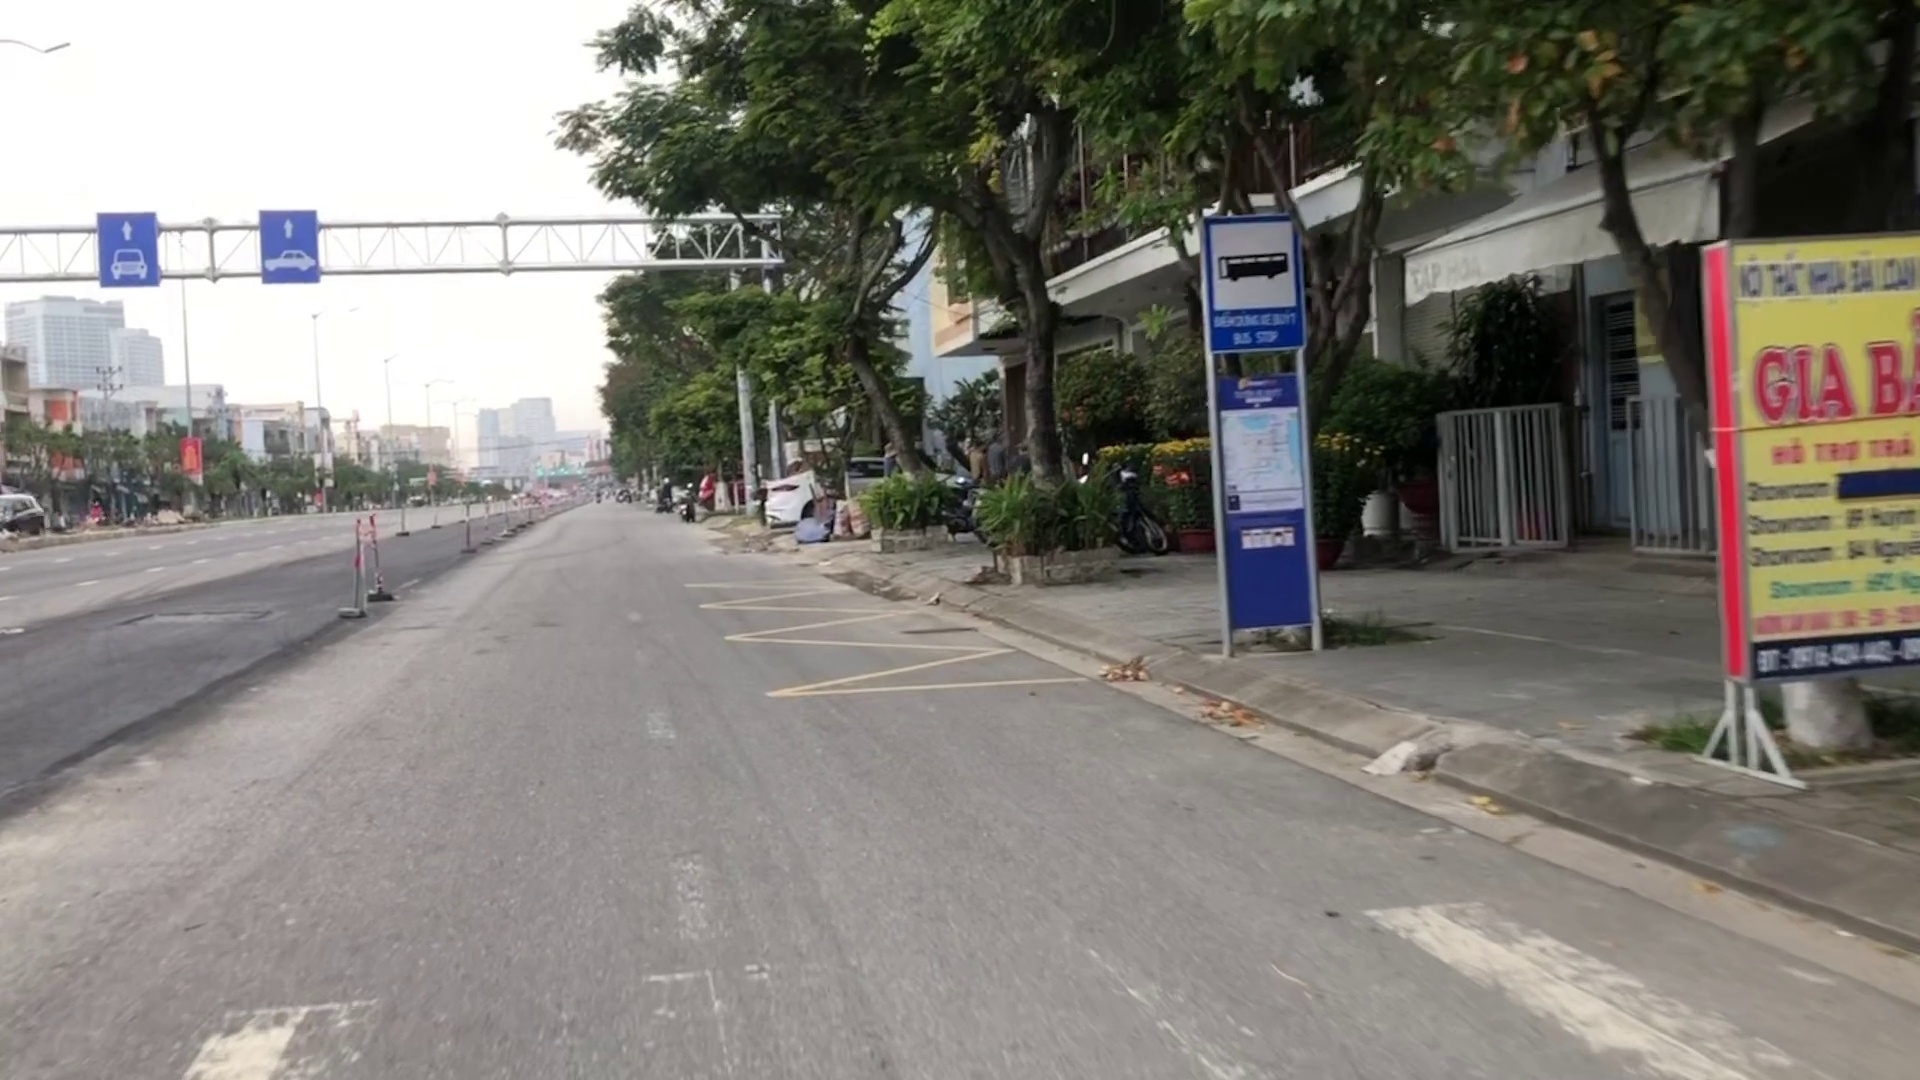Bien khac: (1196, 204, 1305, 352)
